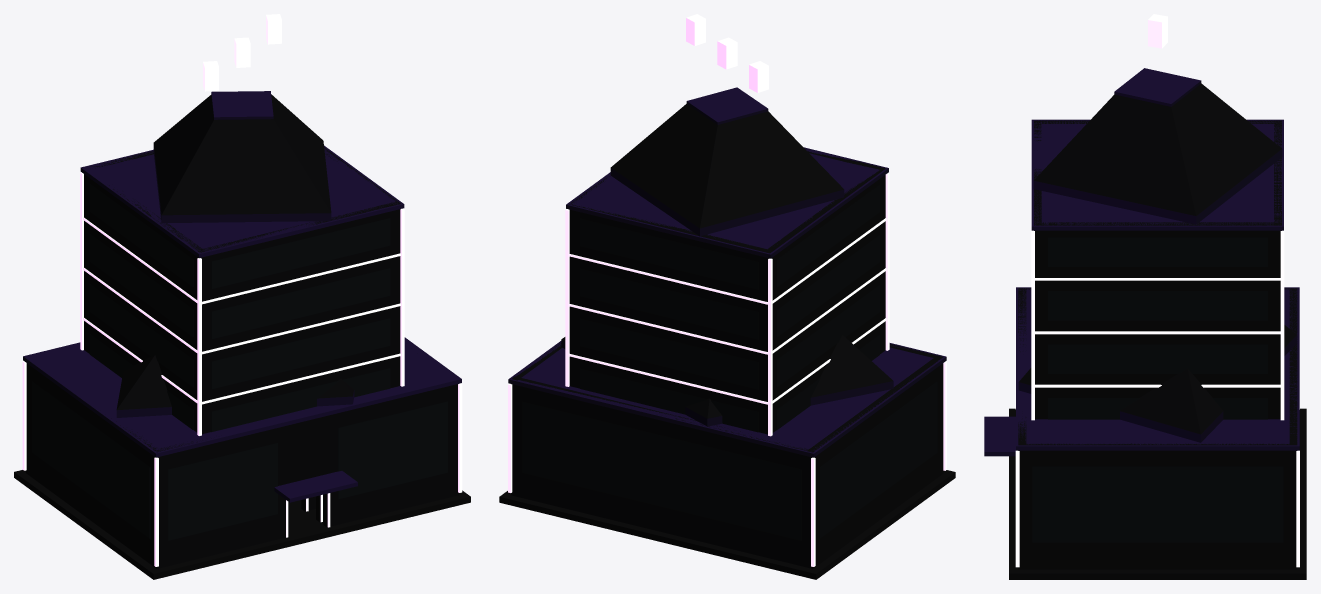
File: shaddai_realm_buildings_void_v01.glb
3 views of the same model, side by side, from view 1: azimuth 30°, elevation 25°; view 2: azimuth 150°, elevation 25°; view 3: azimuth 270°, elevation 25° (orthographic). The views are drawn at different scales.
Visible parts, largest first — view 1: shaddai_bld_void_tower, shaddai_bld_void_hall; view 2: shaddai_bld_void_tower, shaddai_bld_void_hall; view 3: shaddai_bld_void_tower, shaddai_bld_void_hall.
Part boxes in pixels (left/top/right/bottom): shaddai_bld_void_tower: left=80, top=14, right=404, bottom=522; shaddai_bld_void_hall: left=14, top=337, right=470, bottom=579; shaddai_bld_void_tower: left=565, top=14, right=889, bottom=436; shaddai_bld_void_hall: left=499, top=335, right=955, bottom=579; shaddai_bld_void_tower: left=1000, top=14, right=1284, bottom=456; shaddai_bld_void_hall: left=984, top=287, right=1306, bottom=579.
Bounding box in the file's own units: 25.2 × 35.3 × 20.8.
